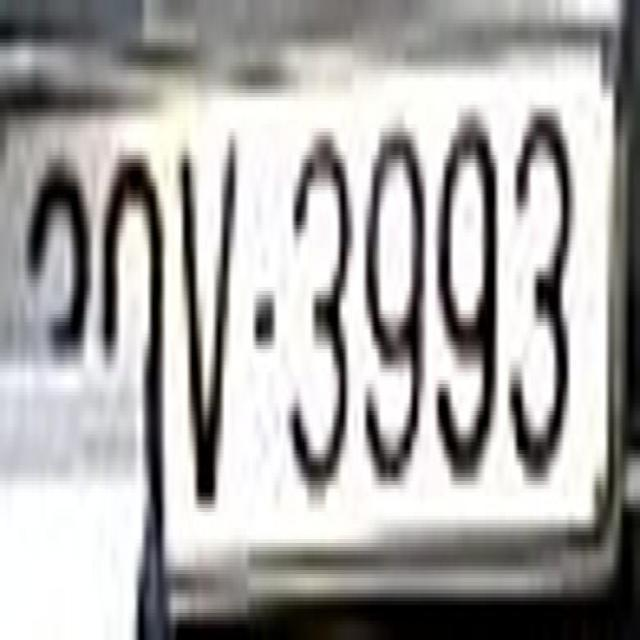0: (101, 159, 165, 605)
3: (21, 151, 91, 601), (286, 136, 352, 524), (510, 93, 574, 477)
9: (433, 120, 500, 477), (362, 120, 425, 493)
V: (178, 132, 236, 504)
